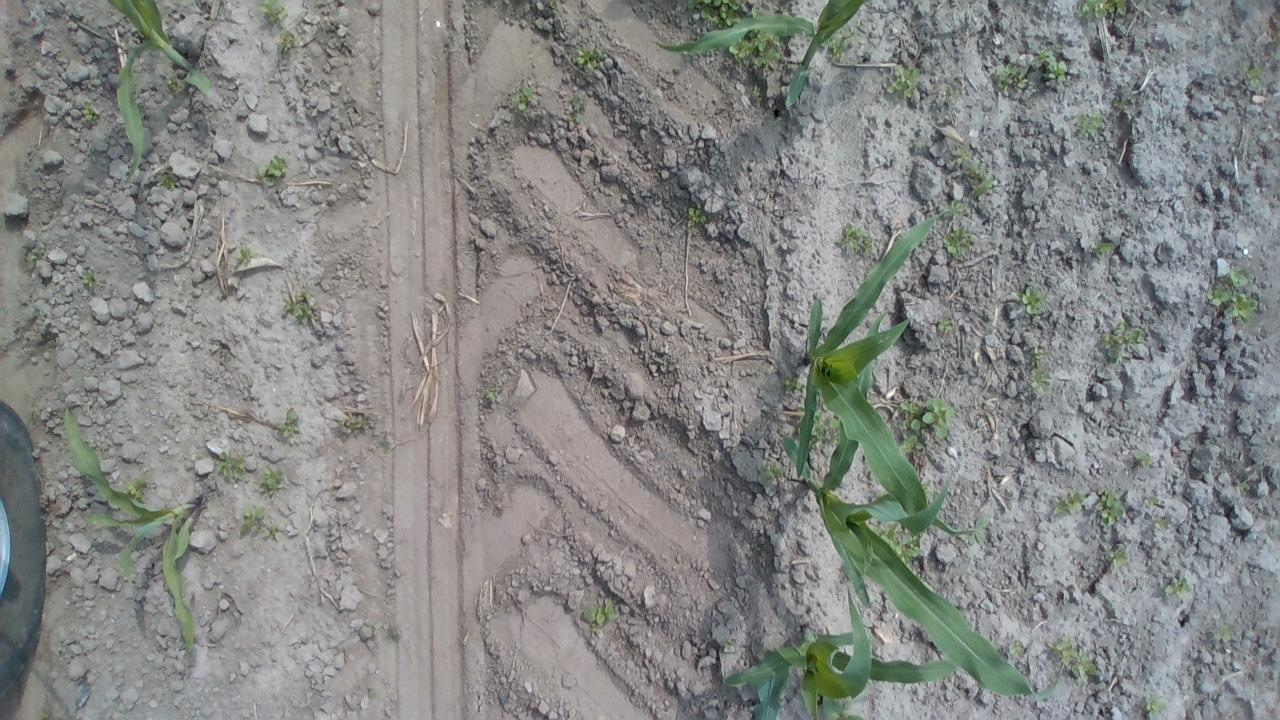Maize: (780, 435, 1064, 699), (796, 209, 980, 536), (64, 406, 209, 668), (652, 0, 872, 109), (724, 619, 957, 719), (105, 0, 215, 184), (753, 648, 791, 720)
Weeds: (1204, 266, 1260, 326), (898, 396, 956, 451), (1049, 630, 1096, 682), (1102, 319, 1149, 369), (581, 594, 618, 638), (280, 288, 322, 326), (683, 0, 741, 26), (836, 220, 874, 253), (1034, 49, 1070, 83), (258, 154, 290, 192), (1096, 488, 1126, 528), (885, 66, 921, 99), (939, 227, 972, 263), (966, 159, 994, 197), (996, 63, 1030, 94), (1078, 0, 1129, 20), (1052, 488, 1084, 518), (508, 80, 536, 112), (1014, 286, 1046, 314), (274, 406, 300, 440), (1077, 106, 1104, 138), (823, 697, 862, 719), (240, 504, 265, 538), (259, 465, 284, 498), (218, 450, 245, 480), (576, 46, 606, 71), (338, 411, 370, 434), (1143, 690, 1167, 720), (812, 406, 832, 442), (1090, 234, 1116, 261), (260, 0, 288, 25), (1029, 366, 1053, 395), (1162, 577, 1192, 600), (895, 532, 921, 558), (752, 28, 781, 50), (125, 473, 149, 499), (232, 242, 258, 266), (754, 48, 782, 70), (154, 165, 176, 192), (758, 461, 786, 481), (1241, 60, 1261, 88), (684, 202, 706, 227), (1210, 622, 1236, 642), (276, 28, 296, 54), (828, 34, 846, 62), (1030, 344, 1050, 369), (946, 197, 966, 220), (727, 41, 754, 58), (1109, 550, 1129, 572), (384, 621, 404, 643), (781, 374, 803, 392), (573, 89, 589, 113), (875, 522, 896, 540), (81, 100, 98, 122), (264, 524, 282, 544), (1008, 637, 1026, 656), (374, 435, 392, 454), (1133, 450, 1154, 466), (26, 246, 44, 264), (956, 142, 970, 164), (78, 269, 96, 286), (484, 387, 501, 405), (1112, 99, 1130, 114), (363, 620, 378, 638), (1234, 478, 1250, 494), (1152, 514, 1170, 528), (947, 86, 962, 102), (938, 316, 954, 330), (166, 76, 179, 92), (1144, 494, 1162, 505), (845, 26, 859, 40), (718, 637, 735, 648), (569, 112, 579, 126), (751, 6, 760, 20), (38, 711, 52, 720), (368, 688, 378, 698), (754, 84, 762, 96), (1270, 51, 1280, 60), (941, 82, 948, 92)
